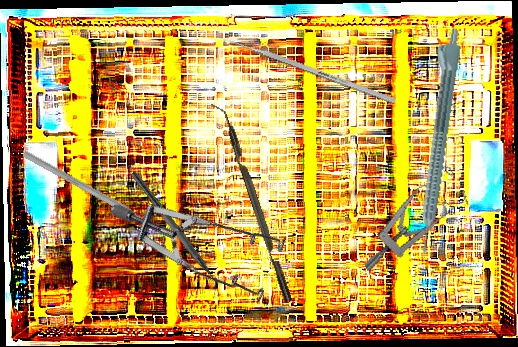Chopper: (209, 99, 293, 306), (122, 170, 227, 297)
Handpiece: (406, 25, 464, 256)
Pusher: (215, 32, 397, 105), (21, 149, 165, 235)
Speculum: (108, 135, 307, 341), (341, 161, 479, 272)
